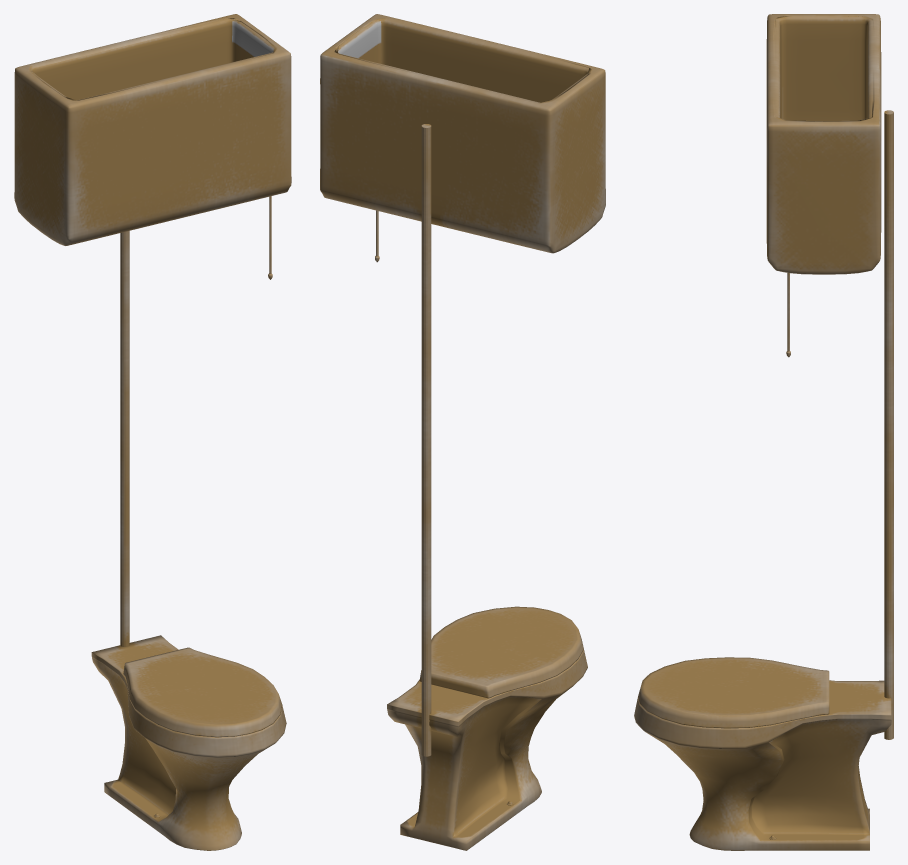
The model's file is Privada_Adm_CENA.fbx.
The picture shows the model from 3 angles, left to right: view 1: azimuth 30°, elevation 25°; view 2: azimuth 150°, elevation 25°; view 3: azimuth 270°, elevation 25°; orthographic projection. The views are drawn at different scales.
Parts seen in each view (by area): view 1: Toilet coupled box.002; view 2: Toilet coupled box.002; view 3: Toilet coupled box.002.
Boxes of the visible parts, x1,y1,x2,y2 form: Toilet coupled box.002: (14,14,291,850); Toilet coupled box.002: (320,14,605,850); Toilet coupled box.002: (634,14,893,850).
Bounding box in the file's own units: 67.97 × 214 × 66.18.
